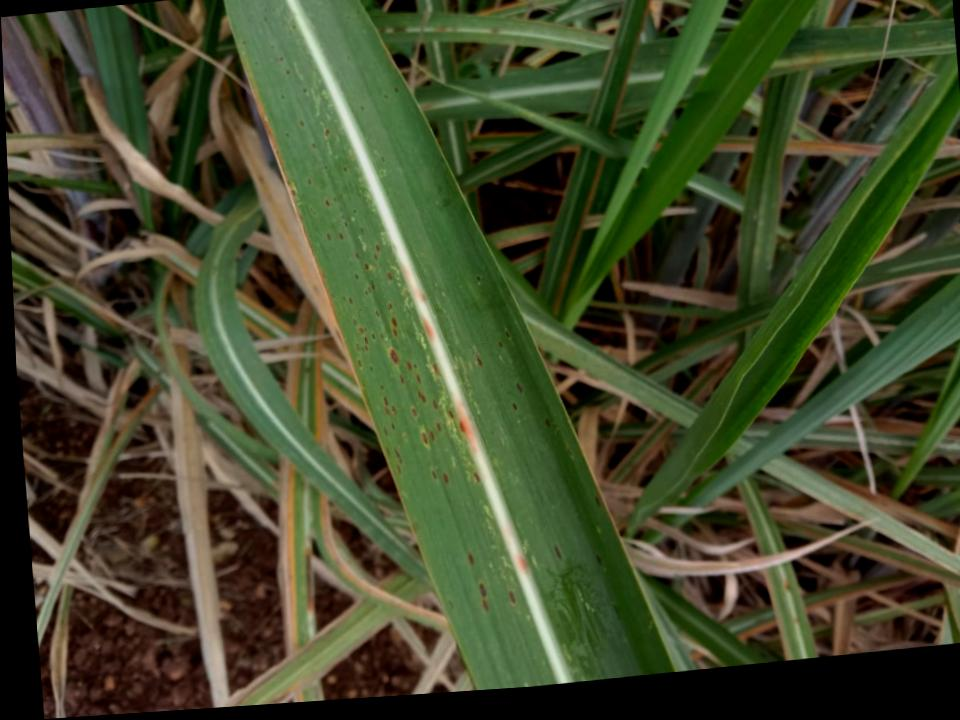RedRot: (457, 403, 477, 453), (423, 318, 434, 341), (412, 285, 426, 302), (517, 556, 529, 573), (402, 264, 411, 283)
Rust: (479, 583, 489, 612), (394, 446, 403, 475), (365, 279, 375, 296), (390, 347, 399, 365), (391, 315, 398, 336), (406, 360, 417, 372), (554, 544, 562, 560), (417, 389, 426, 403), (476, 353, 483, 368), (411, 405, 418, 419), (516, 381, 523, 395), (467, 552, 474, 565), (341, 214, 348, 227), (423, 432, 429, 447), (442, 472, 449, 484), (364, 335, 369, 351), (509, 590, 515, 603), (596, 552, 602, 565), (274, 55, 285, 62), (567, 448, 574, 458), (474, 472, 480, 483), (415, 373, 421, 384), (383, 395, 389, 406), (399, 374, 405, 385), (359, 326, 367, 334), (511, 402, 518, 411), (431, 469, 437, 479), (432, 363, 438, 373), (594, 496, 600, 506), (545, 417, 551, 427), (433, 399, 438, 410), (326, 231, 331, 242), (325, 196, 330, 207), (387, 302, 393, 311), (310, 207, 316, 216), (325, 128, 331, 137), (430, 431, 435, 441), (392, 405, 397, 415), (504, 330, 511, 337), (448, 410, 454, 418), (385, 403, 389, 415), (354, 251, 360, 259), (299, 119, 305, 127), (375, 309, 380, 318), (348, 296, 353, 305), (373, 252, 378, 261), (375, 243, 380, 252), (339, 232, 344, 241), (364, 263, 370, 270), (311, 142, 318, 148), (498, 341, 504, 348), (437, 422, 441, 432), (387, 272, 392, 280), (307, 177, 312, 185), (384, 427, 388, 436), (285, 69, 291, 75), (360, 226, 365, 233), (291, 189, 296, 196), (253, 60, 260, 65), (391, 422, 395, 430), (358, 358, 362, 366), (356, 342, 360, 350), (280, 93, 285, 99), (263, 16, 268, 22), (393, 87, 399, 92), (381, 156, 386, 162), (370, 365, 374, 372), (477, 275, 481, 282), (343, 167, 348, 172), (303, 87, 308, 92), (380, 384, 384, 390), (380, 333, 384, 339), (372, 333, 376, 339), (354, 319, 358, 325), (324, 164, 328, 170), (384, 93, 388, 99), (286, 180, 290, 185), (292, 24, 296, 29), (360, 106, 365, 110), (355, 273, 358, 279), (285, 133, 289, 137), (270, 44, 274, 48), (242, 40, 246, 44), (356, 10, 360, 14), (353, 208, 356, 213), (343, 294, 345, 300), (272, 8, 276, 11), (347, 15, 350, 19), (347, 55, 350, 59), (248, 18, 251, 21)
